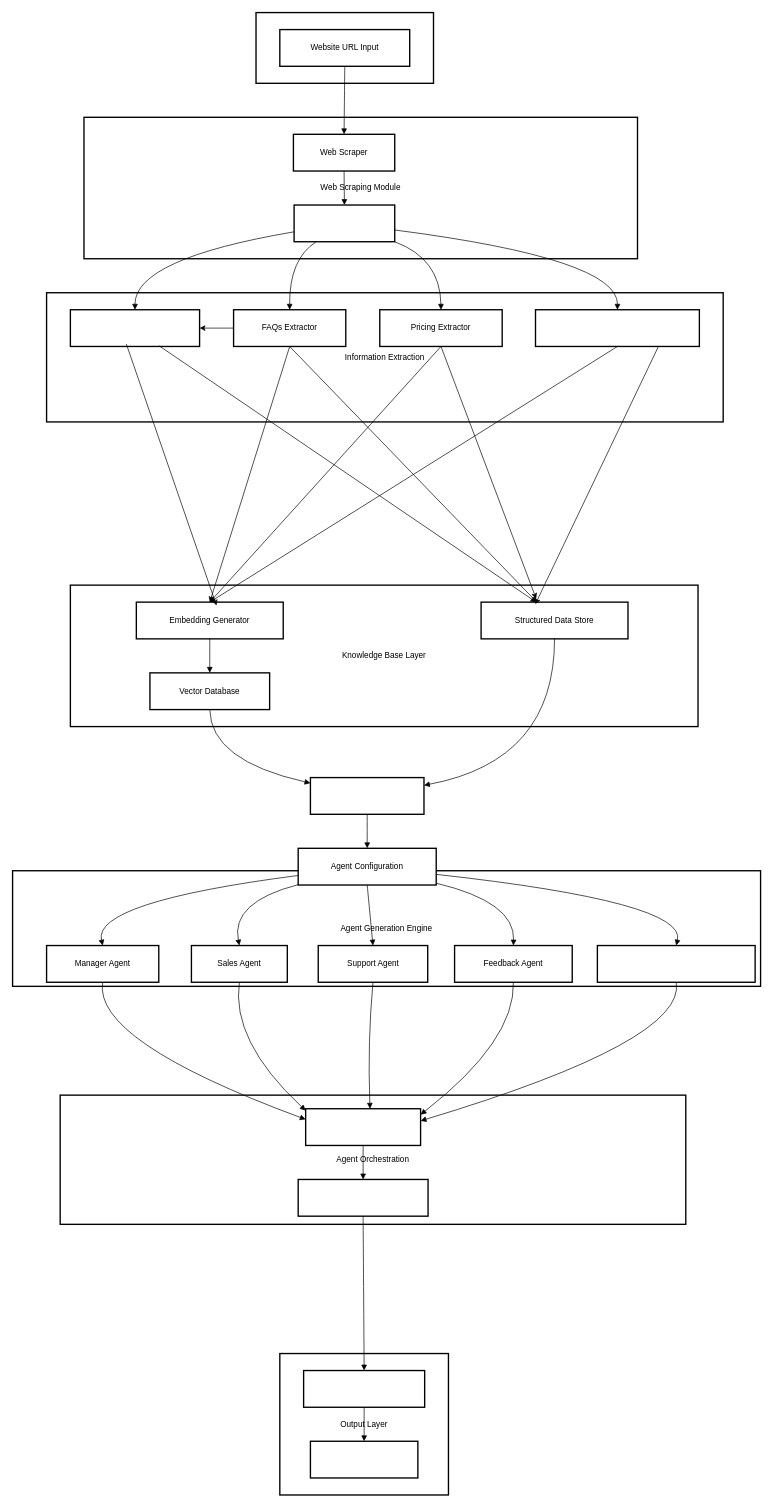
Some shapes in this 772 by 1507 pixel diagram are drawn without their labels. The centre of each missing label's shape, as x and y in pixels:
"Agent Coordinator" goes at point (362, 1197).
"Agent Responses" goes at point (364, 1389).
"Contact Details Extractor" goes at point (617, 328).
"Dashboard/UI" goes at point (363, 1459).
"HTML Parser" goes at point (344, 223).
"Industry-Specific Agents" goes at point (675, 964).
"Prompt Builder" goes at point (366, 796).
"Request Router" goes at point (363, 1127).
"Services Extractor" goes at point (134, 328).
